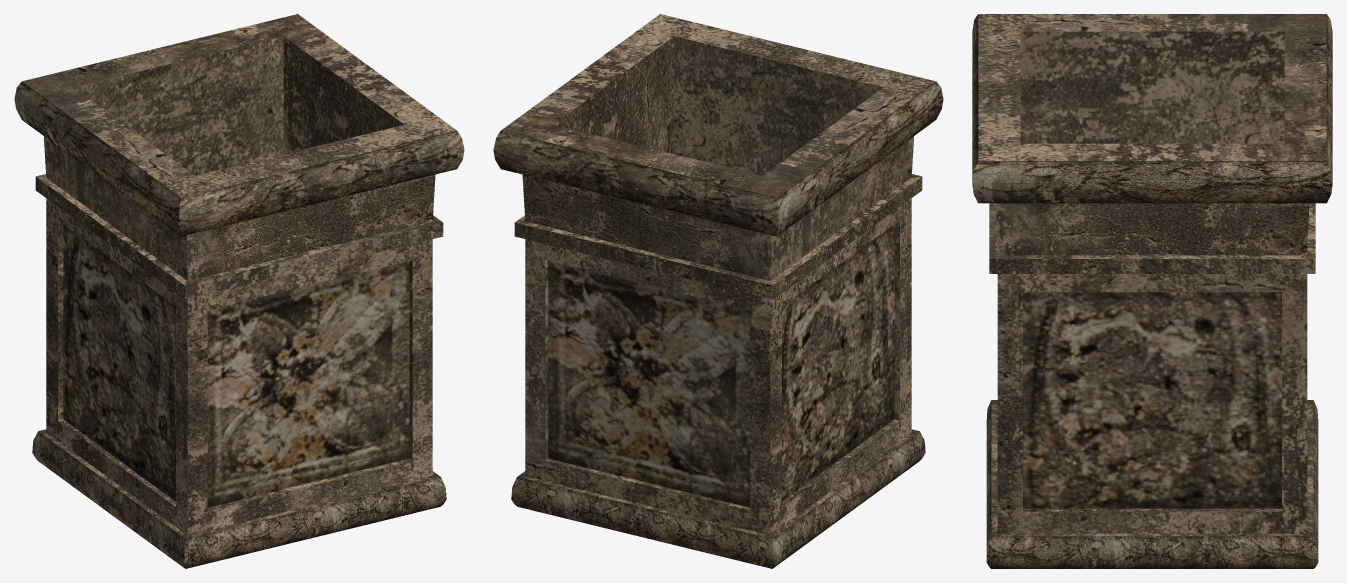
The model's file is materials_5_pot_8.fbx.
3 views of the same model, side by side, from view 1: azimuth 30°, elevation 25°; view 2: azimuth 150°, elevation 25°; view 3: azimuth 270°, elevation 25° (orthographic). The views are drawn at different scales.
Parts seen in each view (by area): view 1: materials_5_pot_8; view 2: materials_5_pot_8; view 3: materials_5_pot_8.
Boxes of the visible parts, left/top/right/bottom form: materials_5_pot_8: left=14, top=14, right=464, bottom=568; materials_5_pot_8: left=493, top=14, right=943, bottom=568; materials_5_pot_8: left=972, top=14, right=1332, bottom=568.
Bounding box in the file's own units: 26.38 × 33.38 × 26.38.
